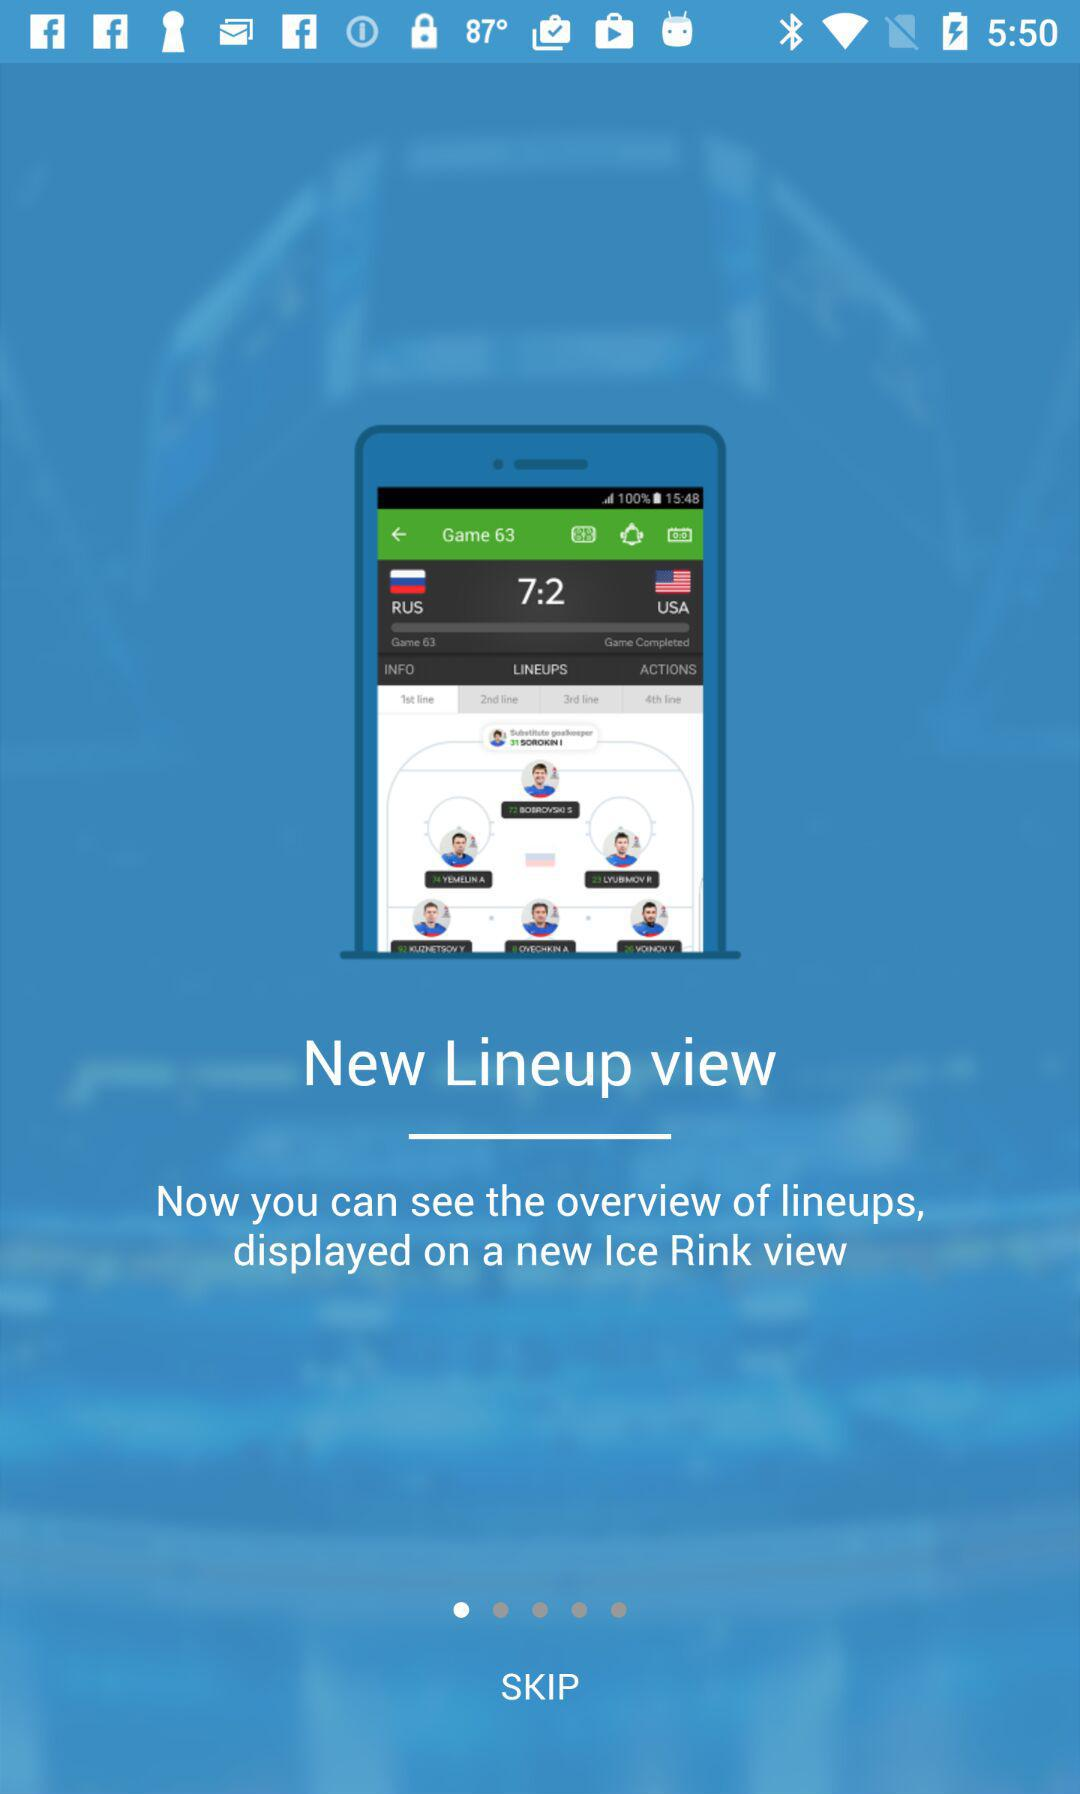Image: (340, 423, 740, 961)
PageIndicator: (452, 1601, 629, 1621)
Text: (156, 1181, 926, 1278), (305, 1035, 779, 1101), (500, 1674, 580, 1702)
UpperTaskBar: (1, 1, 1080, 64)
